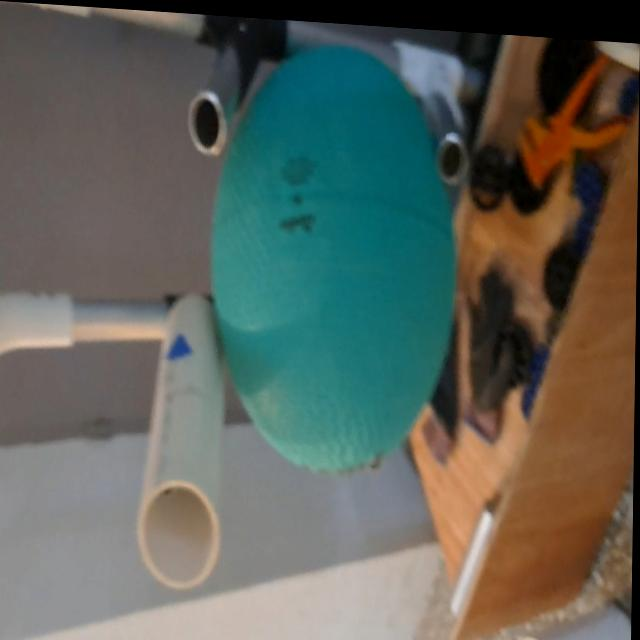ALGAE: (204, 34, 463, 481)
CORAL: (131, 277, 227, 599)
